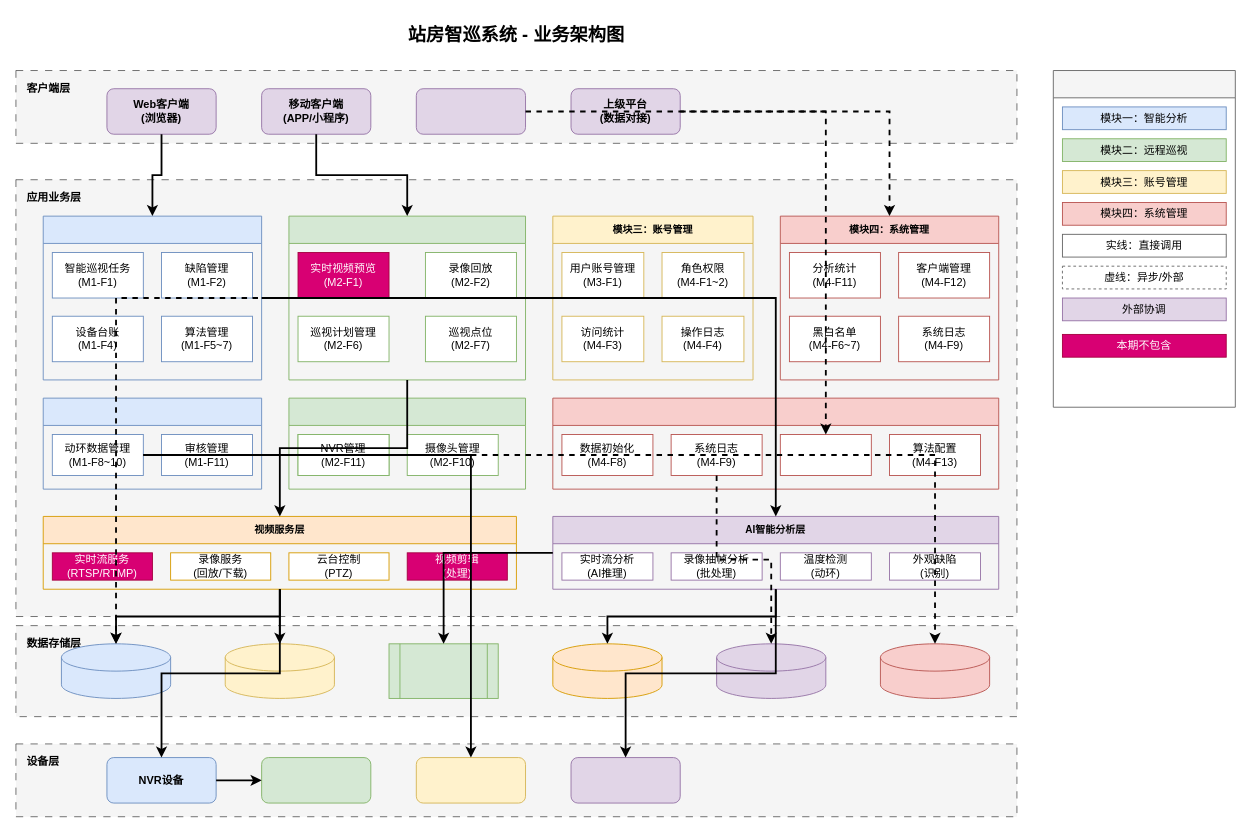
The diagram is 1251 pixels wide and 833 high, and some of its shapes have lost their labels. The box of each missing label's shape, as (x1, y1, x2, y2) in pixels:
AI算法服务器 (GPU): (570, 757, 680, 803)
clickHose (日志检索): (716, 643, 826, 698)
InfluxDB (时序数据): (880, 643, 990, 698)
MinIO/OSS (文件存储): (552, 643, 662, 698)
PostgreSQL (业务数据): (61, 643, 171, 698)
RabbitMQ/MQTT (消息队列): (388, 643, 498, 698)
Redis (缓存/会话): (224, 643, 334, 698)
上下级对接 (M4-F10): (779, 434, 871, 475)
动环传感器 (温湿度/水浸): (415, 757, 526, 803)
图例说明: (1052, 70, 1235, 407)
摄像头 (枪机/球机): (261, 757, 371, 803)
智能分析子模块: (42, 397, 262, 489)
模块一：智能分析管理: (42, 215, 262, 380)
模块二：远程巡视管理: (288, 215, 526, 380)
第三方系统 (API对接): (415, 88, 526, 134)
系统管理子模块: (552, 397, 999, 489)
远程巡视子模块: (288, 397, 526, 489)
